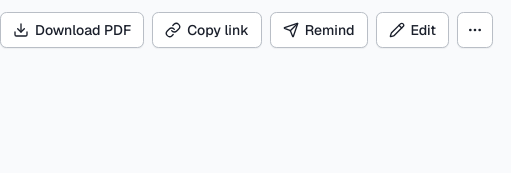
Test: a sent billing statement's actions › lists them in the menu, the ones that end the bill marked as dangerous
The image size is (511, 173).
Press the mouse on the button named "More actions" at (475,30), box [457, 12, 493, 48]
Click the button named "More actions" at (475,30), box [457, 12, 493, 48]
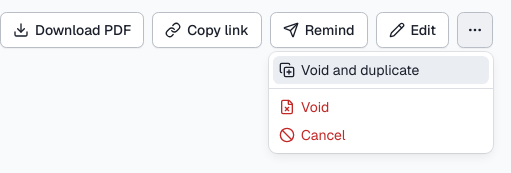
expect the menu item "Void and duplicate" is shown: met, box [273, 56, 489, 84]
